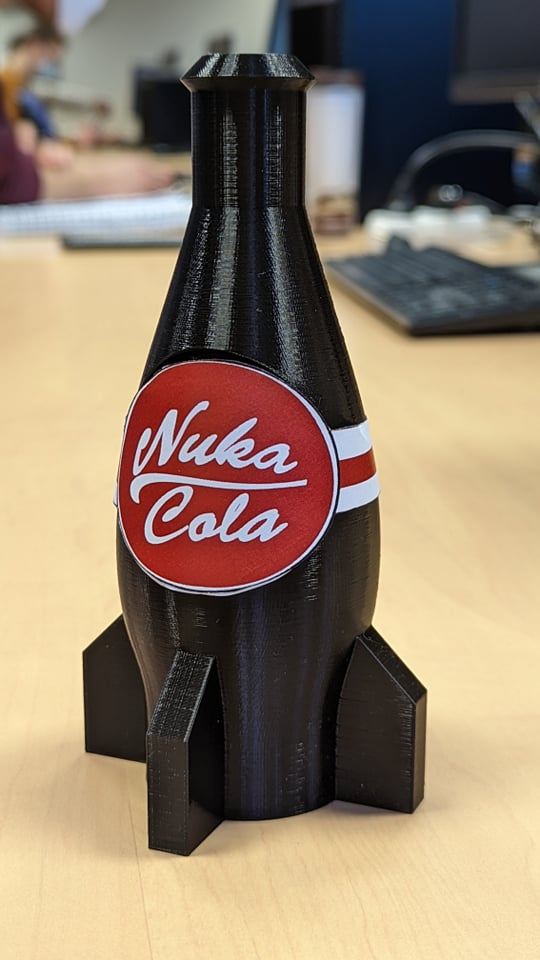bottle: (70, 29, 442, 878)
